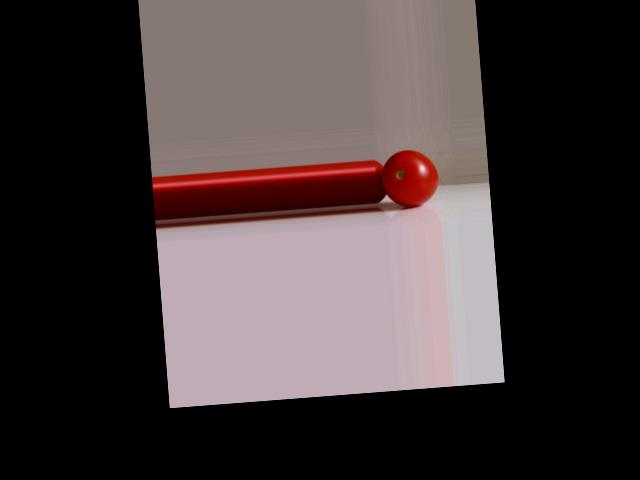tomato: (380, 148, 440, 208)
